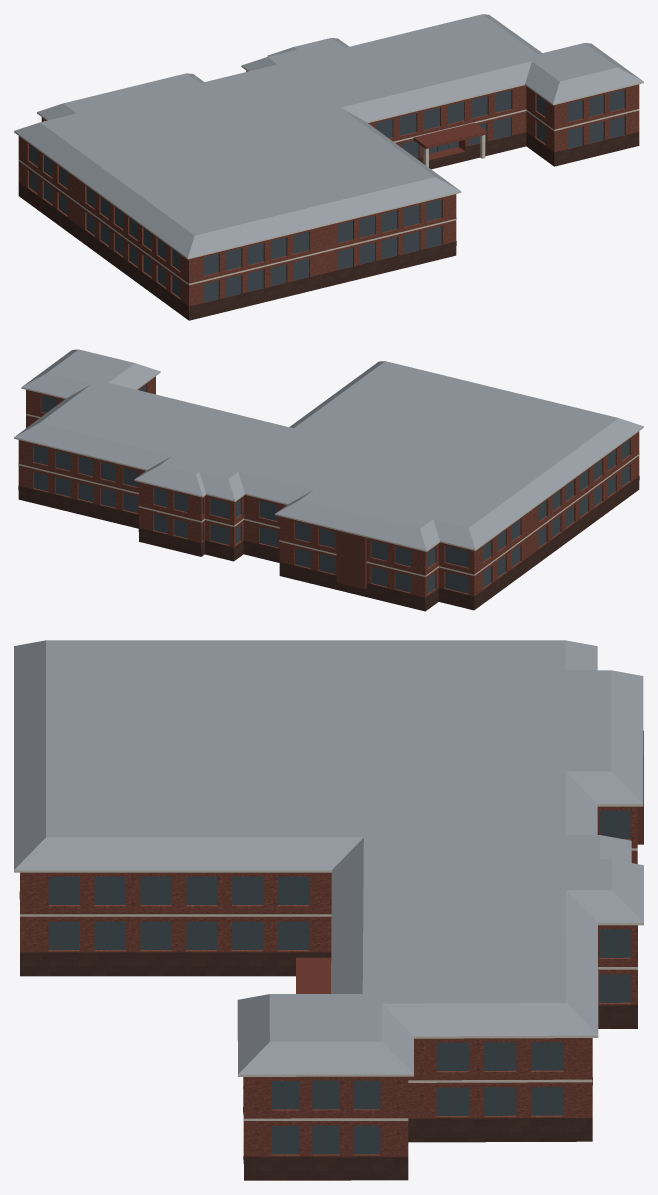
3 views of the same model, one above another, from view 1: azimuth 30°, elevation 25°; view 2: azimuth 150°, elevation 25°; view 3: azimuth 270°, elevation 25° (orthographic). The views are drawn at different scales.
Parts seen in each view (by area): view 1: kaimaru__roofAccent, kaimaru__wall, kaimaru__glass, kaimaru__base, kaimaru__trim, kaimaru__roof; view 2: kaimaru__roofAccent, kaimaru__wall, kaimaru__glass, kaimaru__base, kaimaru__trim, kaimaru__wall2; view 3: kaimaru__roofAccent, kaimaru__wall, kaimaru__glass, kaimaru__base, kaimaru__trim, kaimaru__roof.
Boxes of the visible parts, box(x1,y1,x2,y2) form: kaimaru__roofAccent: box(14, 14, 643, 257); kaimaru__wall: box(18, 71, 639, 310); kaimaru__glass: box(29, 89, 624, 302); kaimaru__base: box(18, 131, 639, 320); kaimaru__trim: box(14, 56, 643, 285); kaimaru__roof: box(414, 122, 486, 161); kaimaru__roofAccent: box(14, 349, 643, 550); kaimaru__wall: box(18, 376, 639, 601); kaimaru__glass: box(33, 384, 629, 593); kaimaru__base: box(18, 476, 639, 611); kaimaru__trim: box(14, 371, 643, 576); kaimaru__wall2: box(336, 530, 366, 589); kaimaru__roofAccent: box(14, 640, 643, 1074); kaimaru__wall: box(20, 806, 637, 1156); kaimaru__glass: box(48, 810, 630, 1154); kaimaru__base: box(19, 891, 637, 1180); kaimaru__trim: box(14, 804, 643, 1120); kaimaru__roof: box(243, 730, 643, 1143).
Bounding box in the file's own units: 85.78 × 11.94 × 53.31.
Materials: 10 (2 with a texture image).
